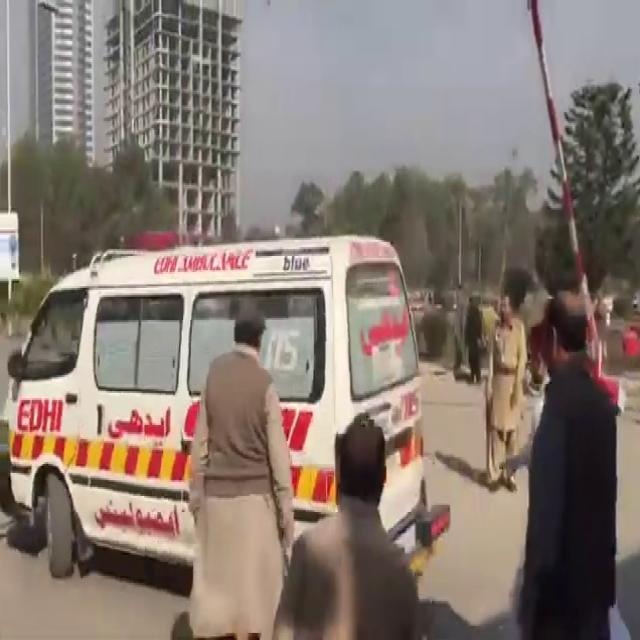ambulance: (15, 245, 436, 564)
